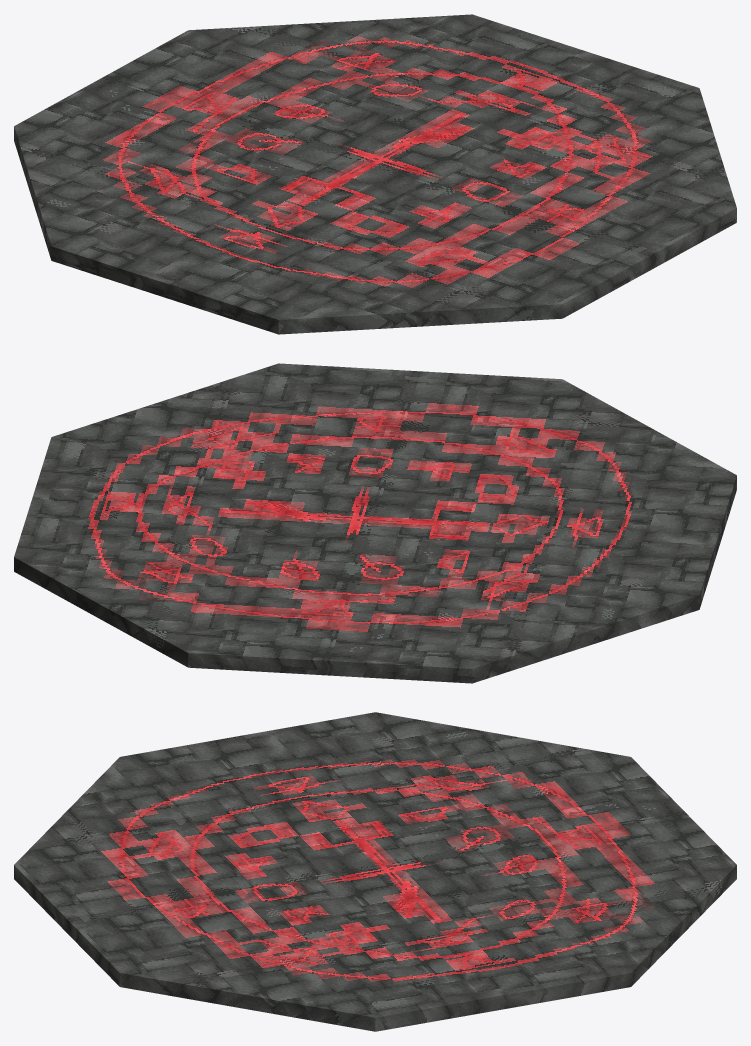
The model's file is portal_frame.glb.
The picture shows the model from 3 angles, top to bottom: view 1: azimuth 30°, elevation 25°; view 2: azimuth 150°, elevation 25°; view 3: azimuth 270°, elevation 25°; orthographic projection. The views are drawn at different scales.
Visible parts, largest first — view 1: portal_frame-col; view 2: portal_frame-col; view 3: portal_frame-col.
Boxes of the visible parts, box(x1,y1,x2,y2) form: portal_frame-col: box(14, 14, 736, 334); portal_frame-col: box(14, 363, 736, 683); portal_frame-col: box(14, 712, 736, 1031).
Size of the model in its own units: 9.66 by 0.2072 by 9.66.
Materials: 1 (1 with a texture image).
